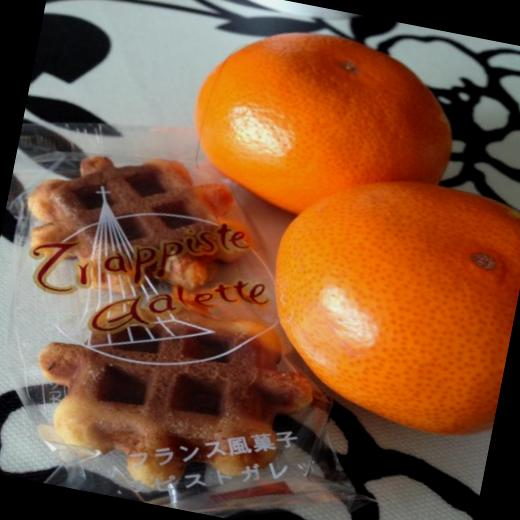Grape: (248, 157, 520, 446), (178, 12, 467, 241)
